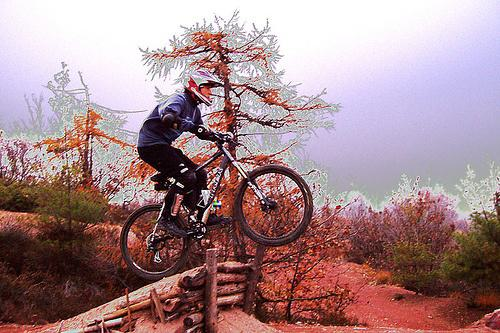car: (119, 128, 315, 282)
person: (138, 68, 225, 242)
